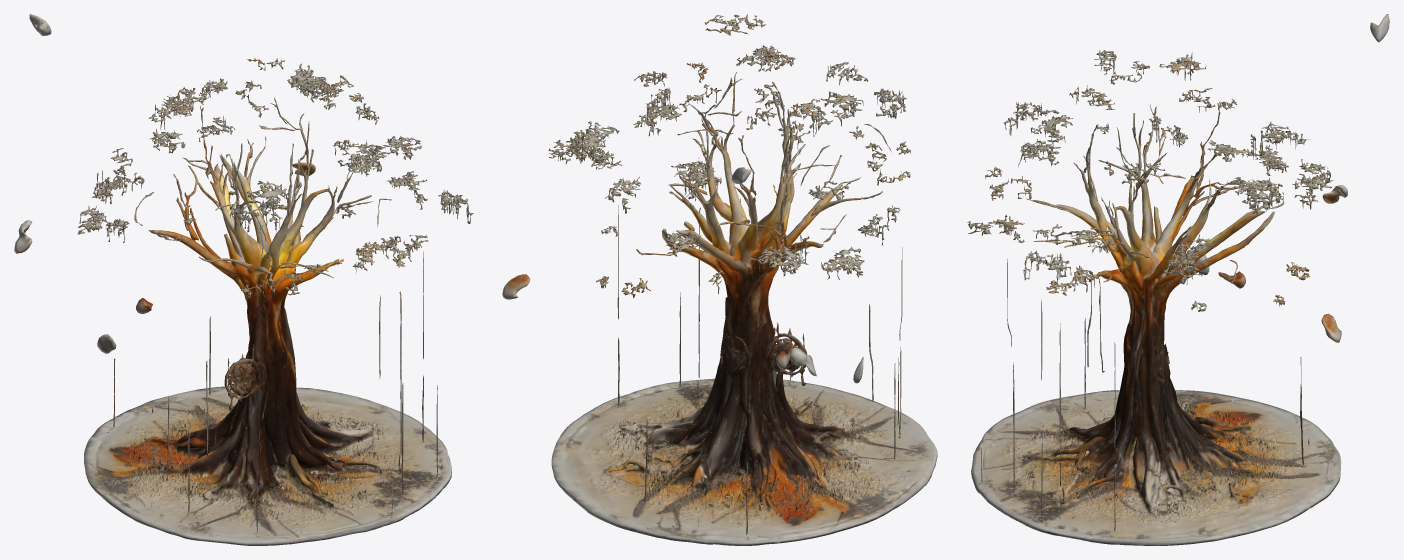
Rendered from Meshy_AI_Enchanted_Luminescenc_1115232810_texture.glb.
The picture shows the model from 3 angles, left to right: view 1: azimuth 30°, elevation 25°; view 2: azimuth 150°, elevation 25°; view 3: azimuth 270°, elevation 25°; orthographic projection. The views are drawn at different scales.
Bounding box in the file's own units: 1.71 × 1.97 × 1.89.
1 material, 1 textured.
